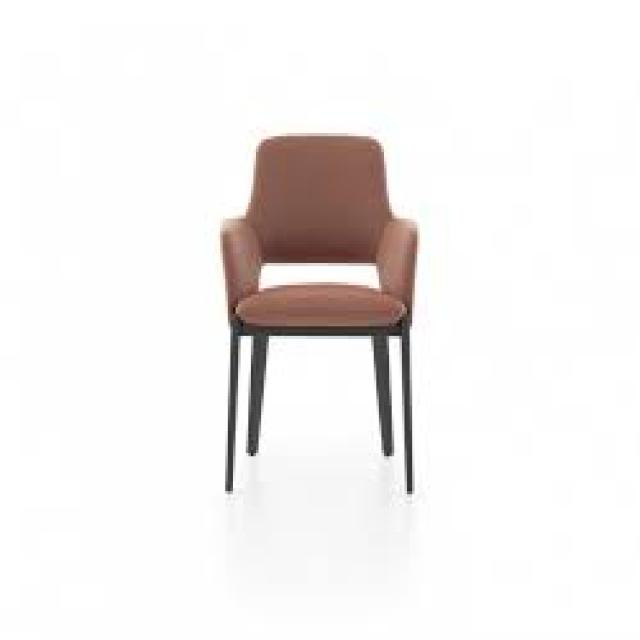chair: (120, 65, 478, 568)
